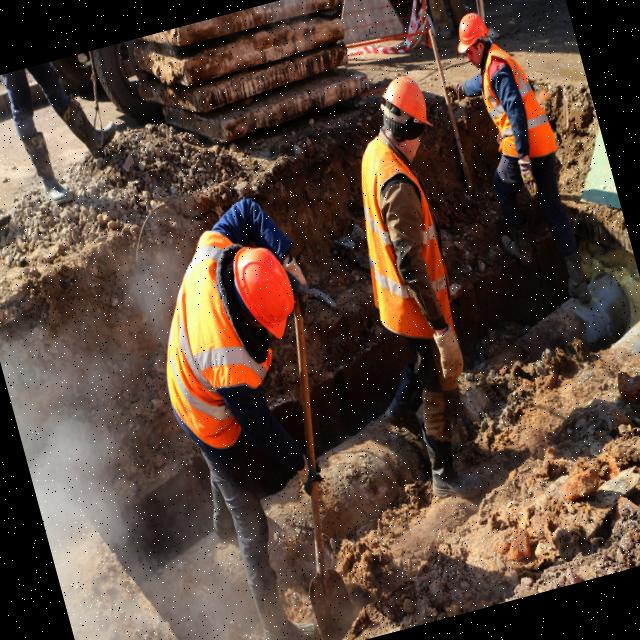Helmet: (228, 234, 307, 349), (378, 71, 436, 140), (449, 10, 494, 57)
Jacket: (152, 250, 281, 447), (351, 142, 457, 337), (471, 44, 556, 188)
